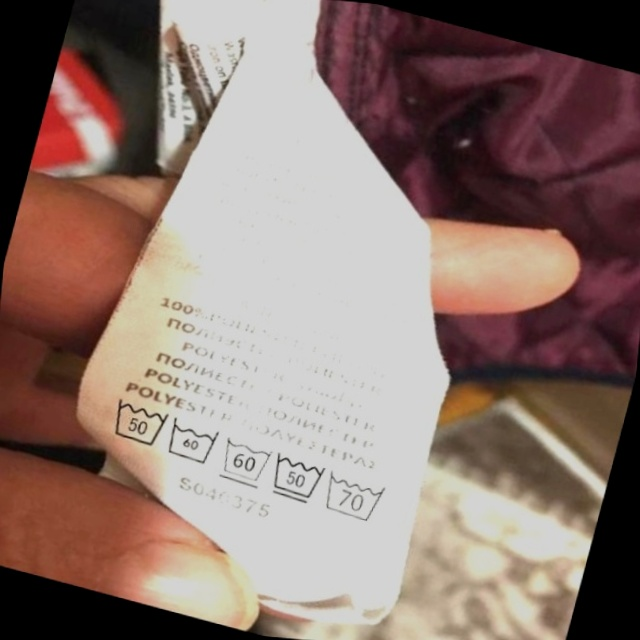50C: (101, 389, 176, 455), (263, 447, 332, 511)
60C: (214, 431, 279, 493), (160, 412, 226, 472)
70C: (319, 467, 394, 529)
